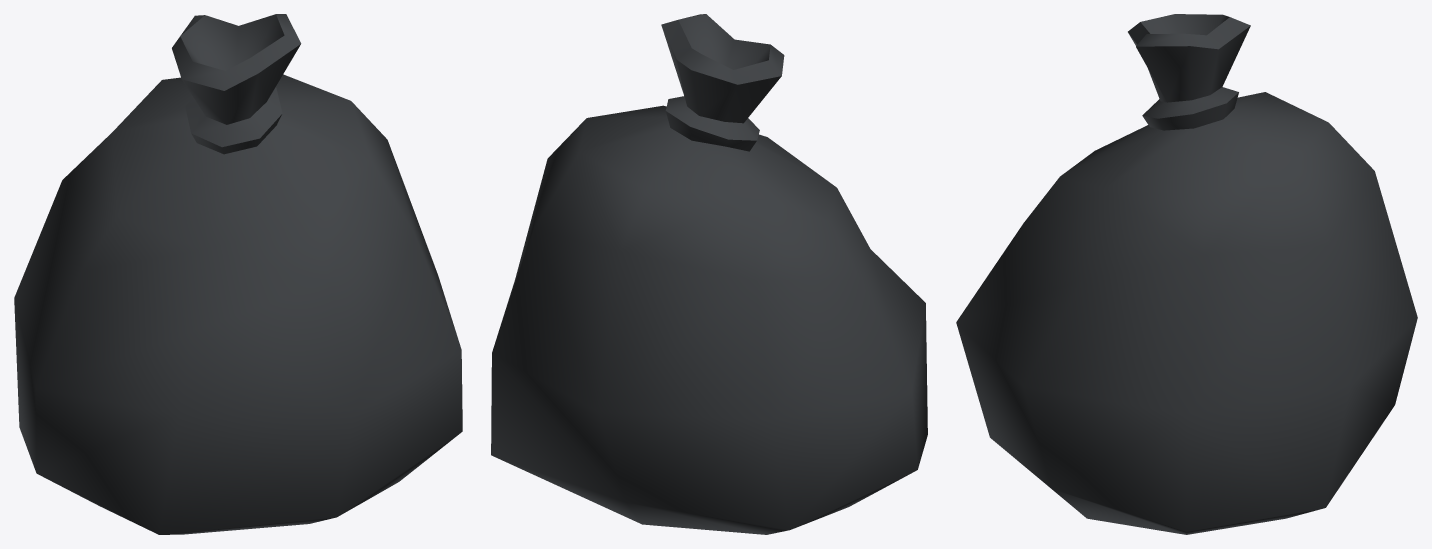
File: SM_Prop_TrashBag_01.obj
3 views of the same model, side by side, from view 1: azimuth 30°, elevation 25°; view 2: azimuth 150°, elevation 25°; view 3: azimuth 270°, elevation 25° (orthographic).
Visible parts, largest first — view 1: SM_Prop_TrashBag_01_Mat_SwatchOverlay_PolygonTown_01_Inst; view 2: SM_Prop_TrashBag_01_Mat_SwatchOverlay_PolygonTown_01_Inst; view 3: SM_Prop_TrashBag_01_Mat_SwatchOverlay_PolygonTown_01_Inst.
Boxes of the visible parts, x1,y1,x2,y2 form: SM_Prop_TrashBag_01_Mat_SwatchOverlay_PolygonTown_01_Inst: (14,14,462,534); SM_Prop_TrashBag_01_Mat_SwatchOverlay_PolygonTown_01_Inst: (491,14,927,534); SM_Prop_TrashBag_01_Mat_SwatchOverlay_PolygonTown_01_Inst: (956,14,1417,534).
Size of the model in its own units: 0.6851 by 0.7202 by 0.6717.
1 material, 1 textured.
